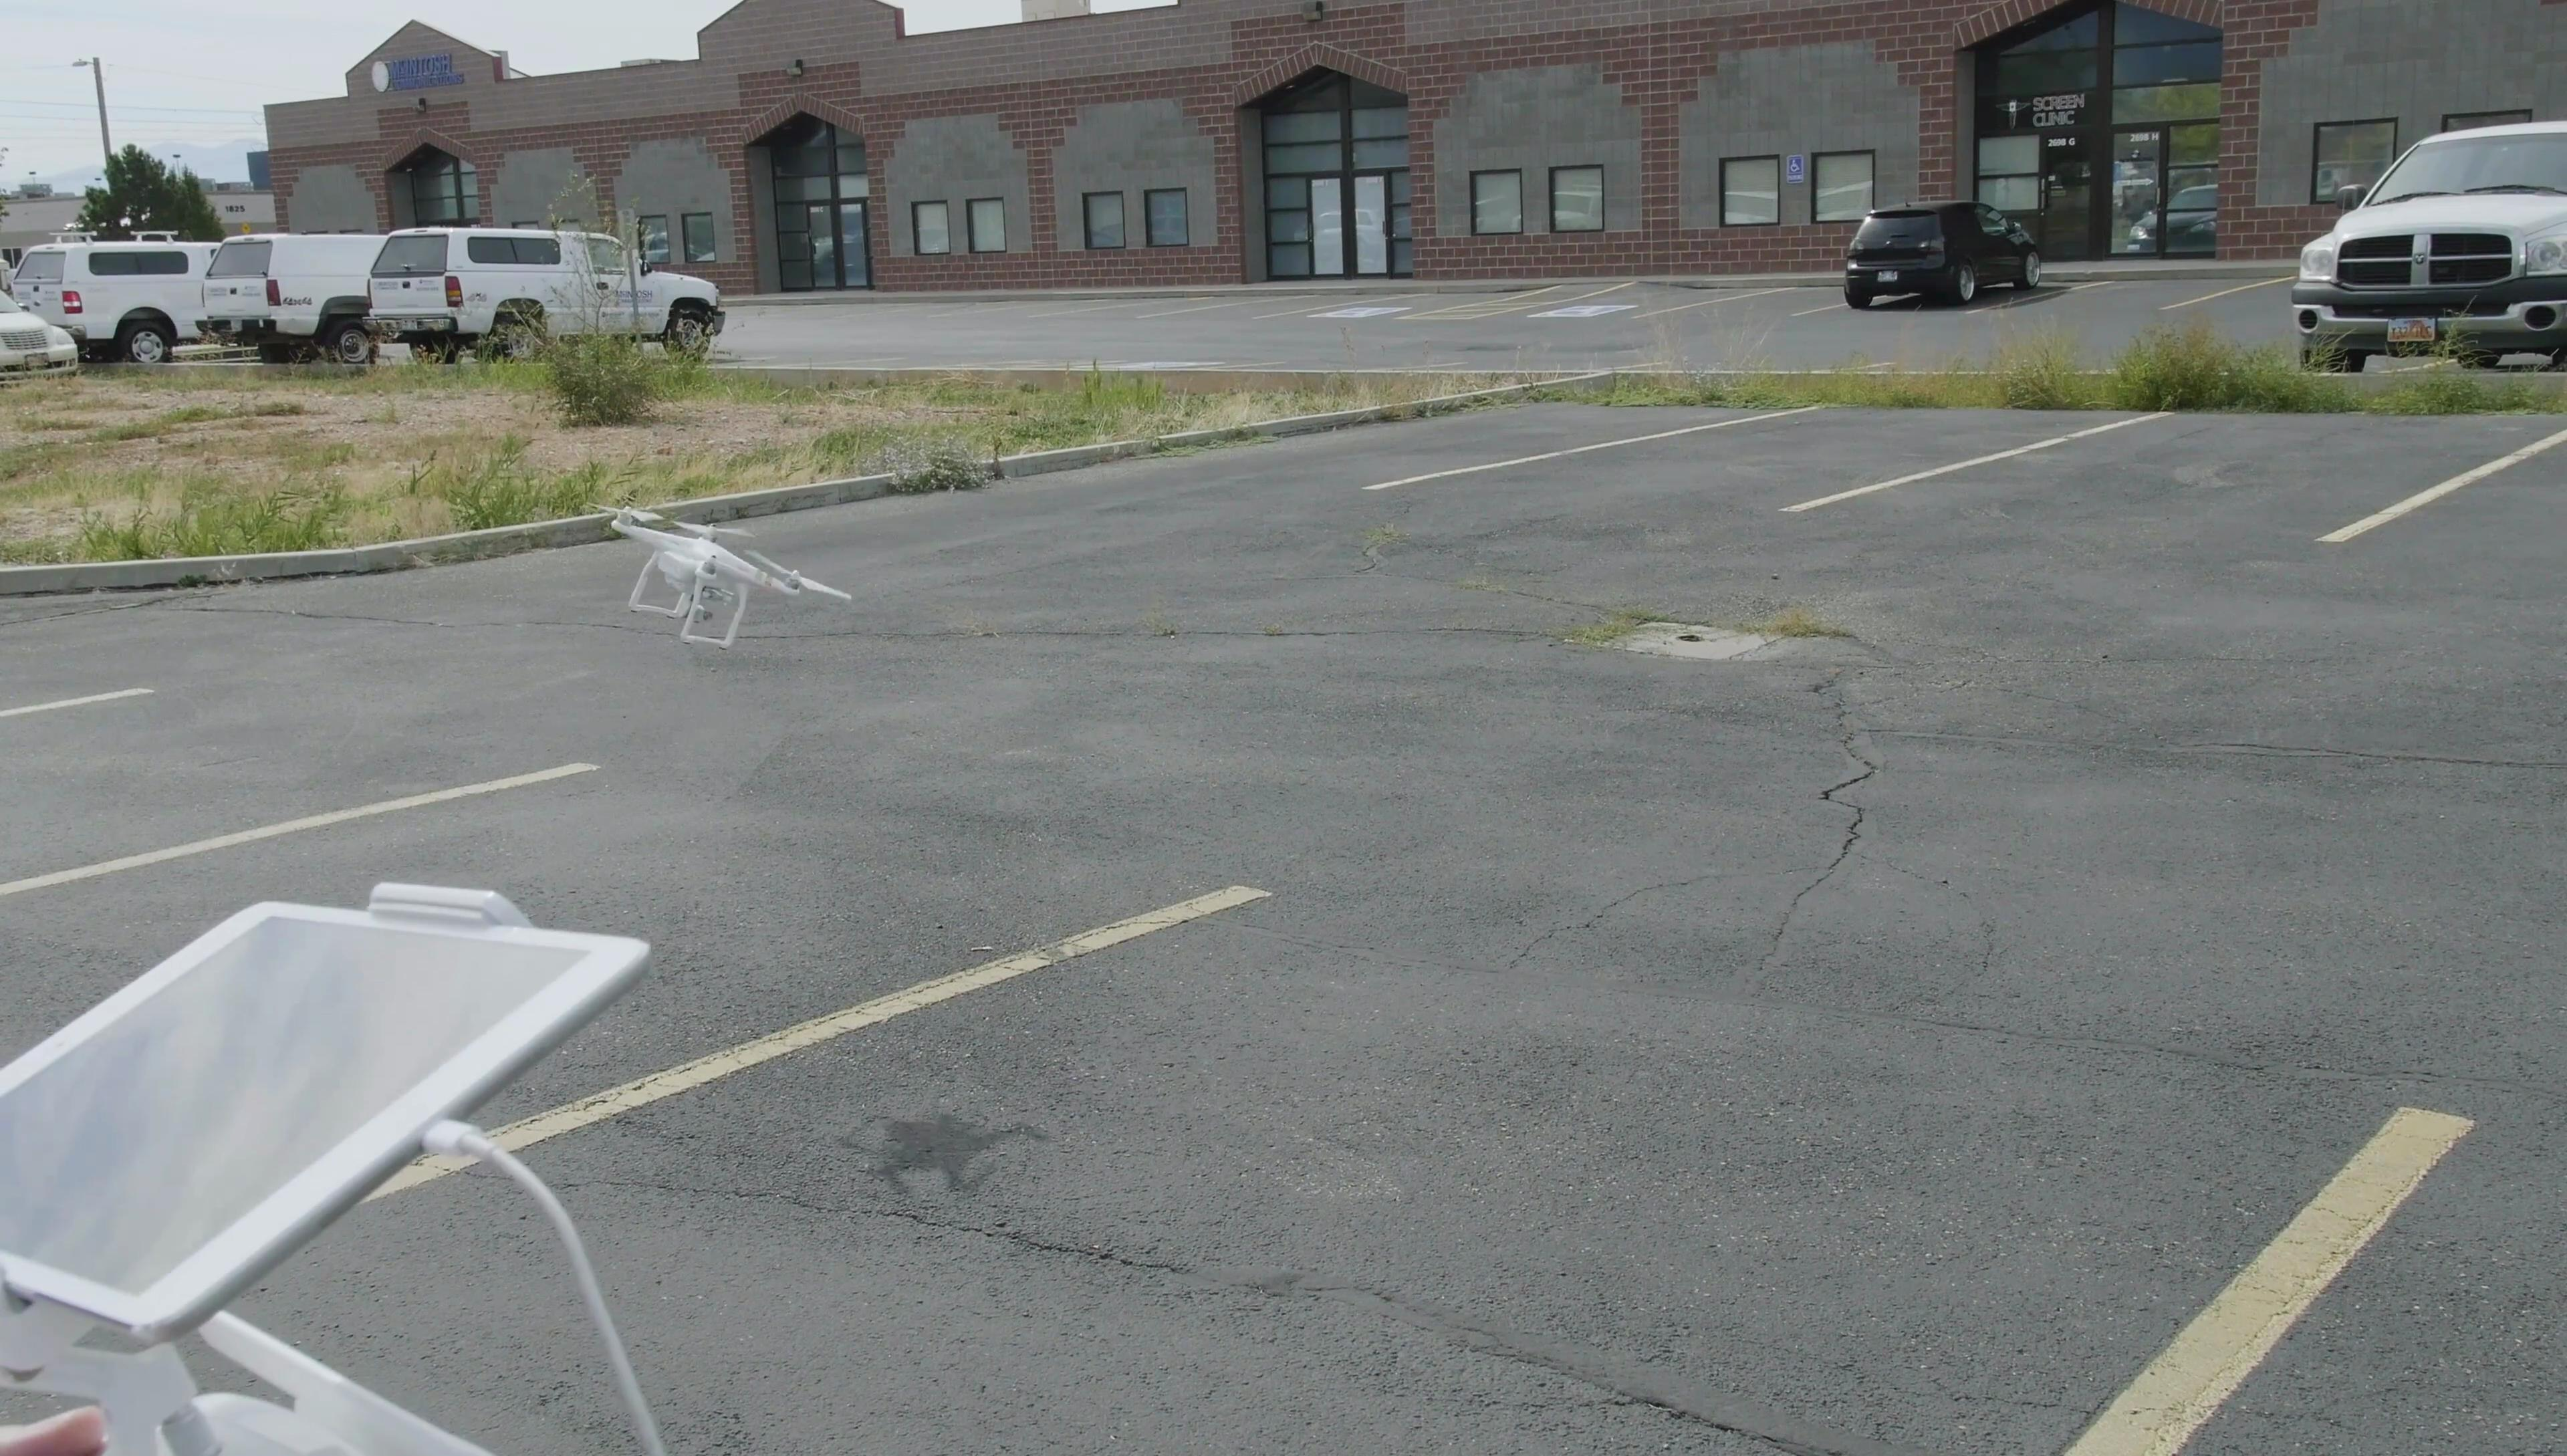drone: (587, 494, 846, 652)
